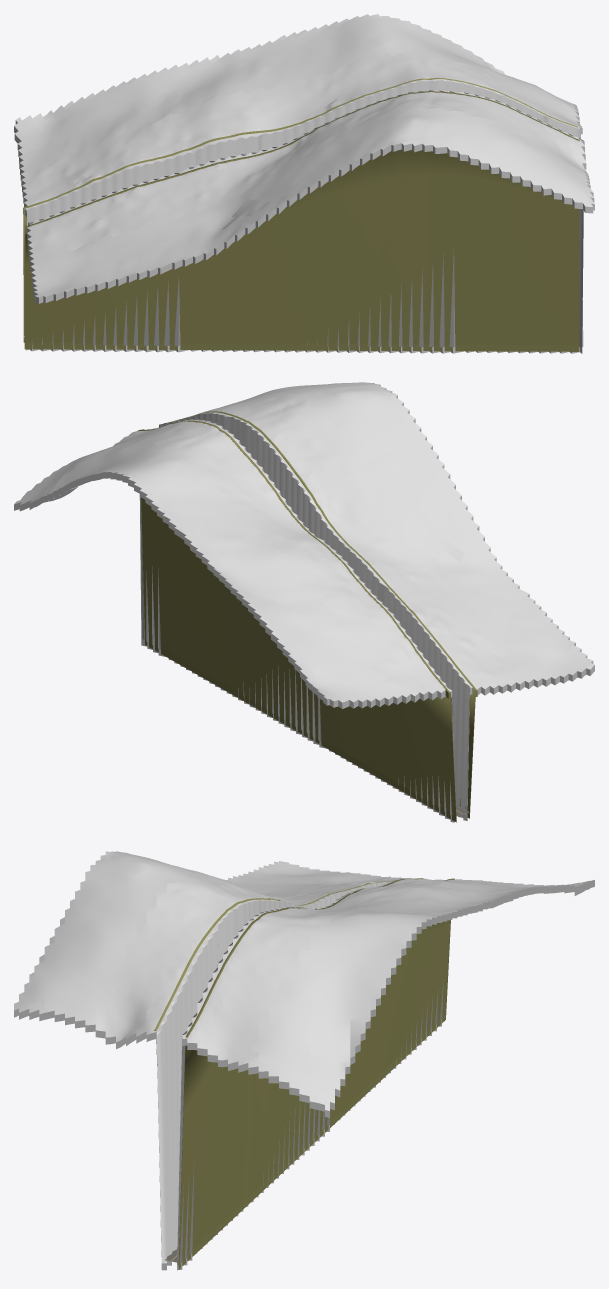
The model's file is conz_96.glb.
3 views of the same model, one above another, from view 1: azimuth 30°, elevation 25°; view 2: azimuth 150°, elevation 25°; view 3: azimuth 270°, elevation 25° (orthographic). The views are drawn at different scales.
Visible parts, largest first — view 1: terrain96, verge96R, verge96L; view 2: terrain96, verge96L, verge96R; view 3: terrain96, verge96L, verge96R.
Boxes of the visible parts, x1,y1,x2,y2 form: terrain96: (14, 14, 594, 353); verge96R: (24, 91, 579, 351); verge96L: (23, 77, 577, 342); terrain96: (14, 382, 594, 822); verge96L: (137, 420, 456, 822); verge96R: (164, 411, 477, 818); terrain96: (14, 851, 594, 1270); verge96L: (178, 878, 454, 1269); verge96R: (154, 878, 423, 1065).
Size of the model in its own units: 274 by 135 by 228.
